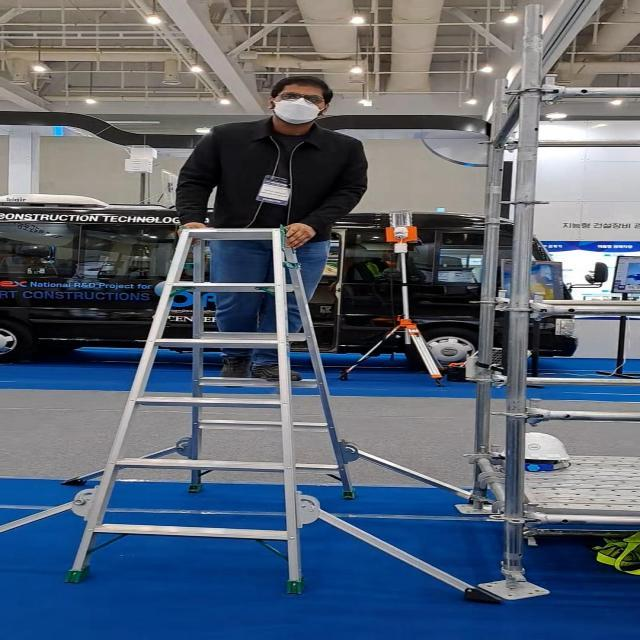boots: (1, 227, 512, 605)
vest: (168, 74, 372, 386)
